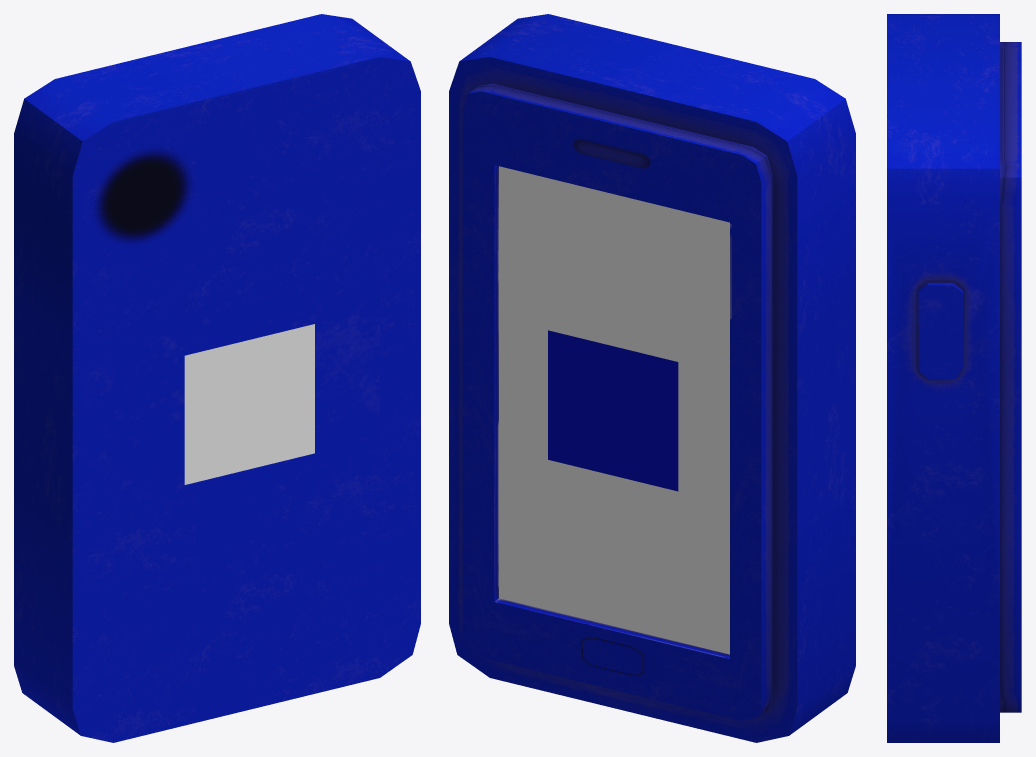
File: BasePhone_Low.fbx
3 views of the same model, side by side, from view 1: azimuth 30°, elevation 25°; view 2: azimuth 150°, elevation 25°; view 3: azimuth 270°, elevation 25° (orthographic). The views are drawn at different scales.
Parts seen in each view (by area): view 1: BasedPhone; view 2: BasedPhone; view 3: BasedPhone.
Boxes of the visible parts, x1,y1,x2,y2 form: BasedPhone: [14, 14, 420, 742]; BasedPhone: [449, 14, 855, 742]; BasedPhone: [887, 14, 1021, 742].
Size of the model in its own units: 4.51 by 7.57 by 1.57.
1 material, 1 textured.
